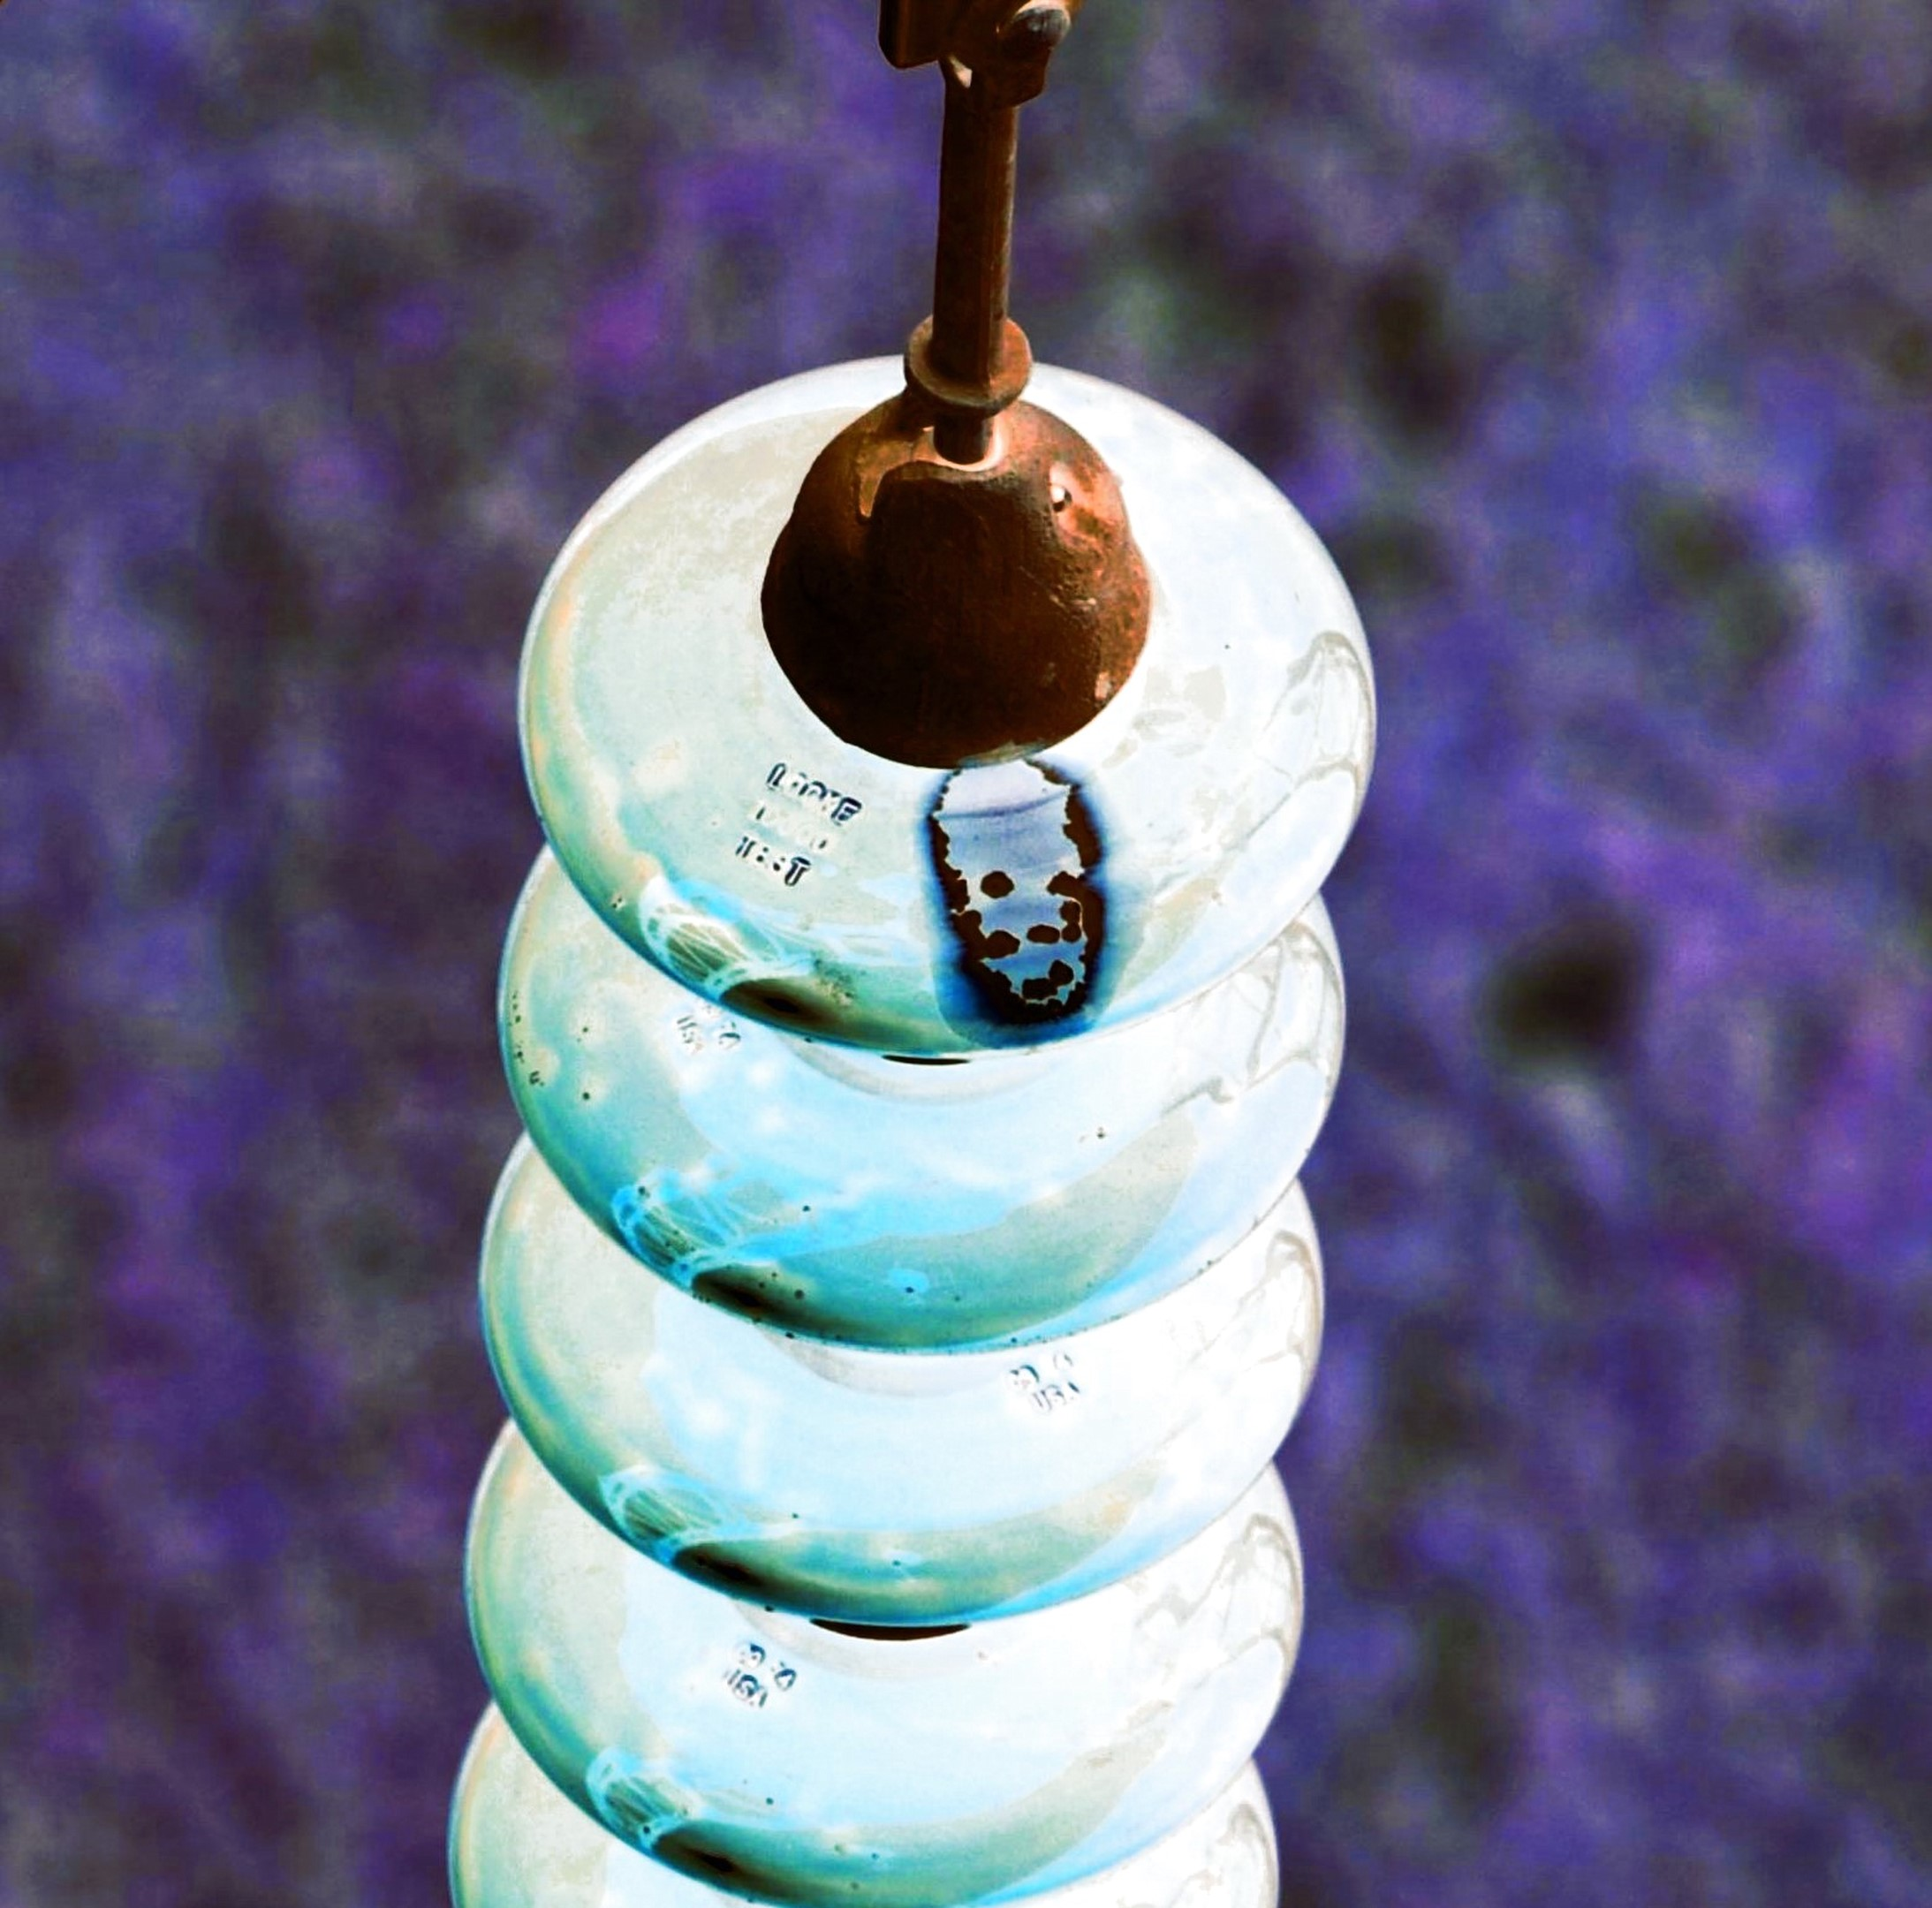Insulator flashover: (491, 327, 1427, 1073)
